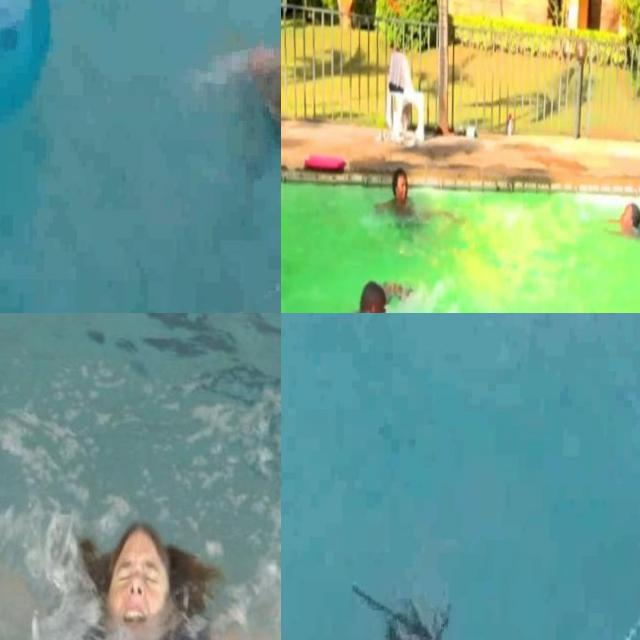drowning: (0, 313, 281, 640), (177, 0, 281, 240), (303, 554, 473, 640), (302, 259, 420, 313)
swimming: (371, 158, 442, 245), (586, 189, 640, 273)
